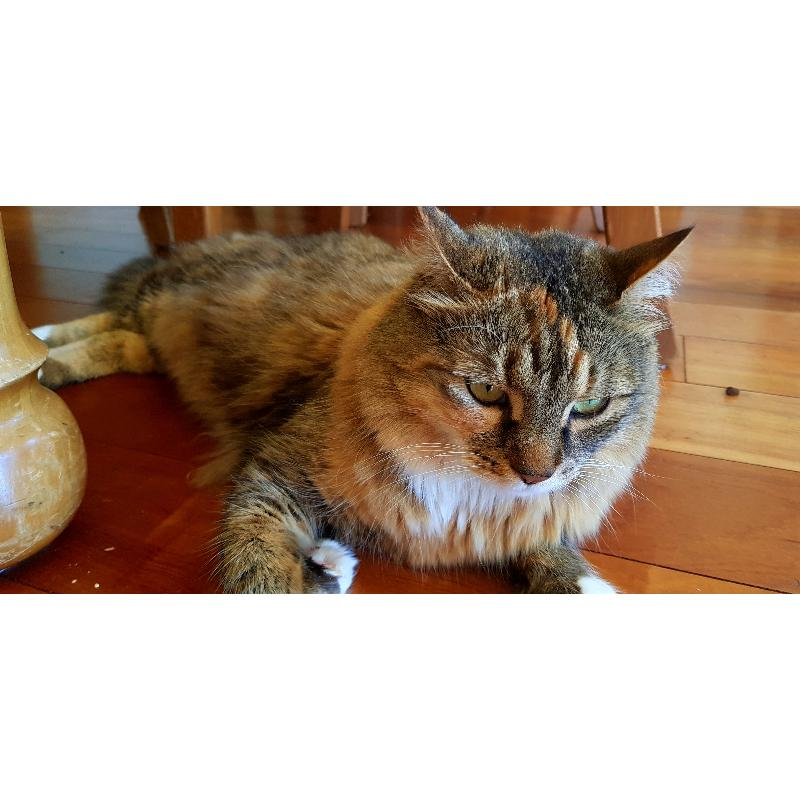yellow: (31, 206, 695, 594)
